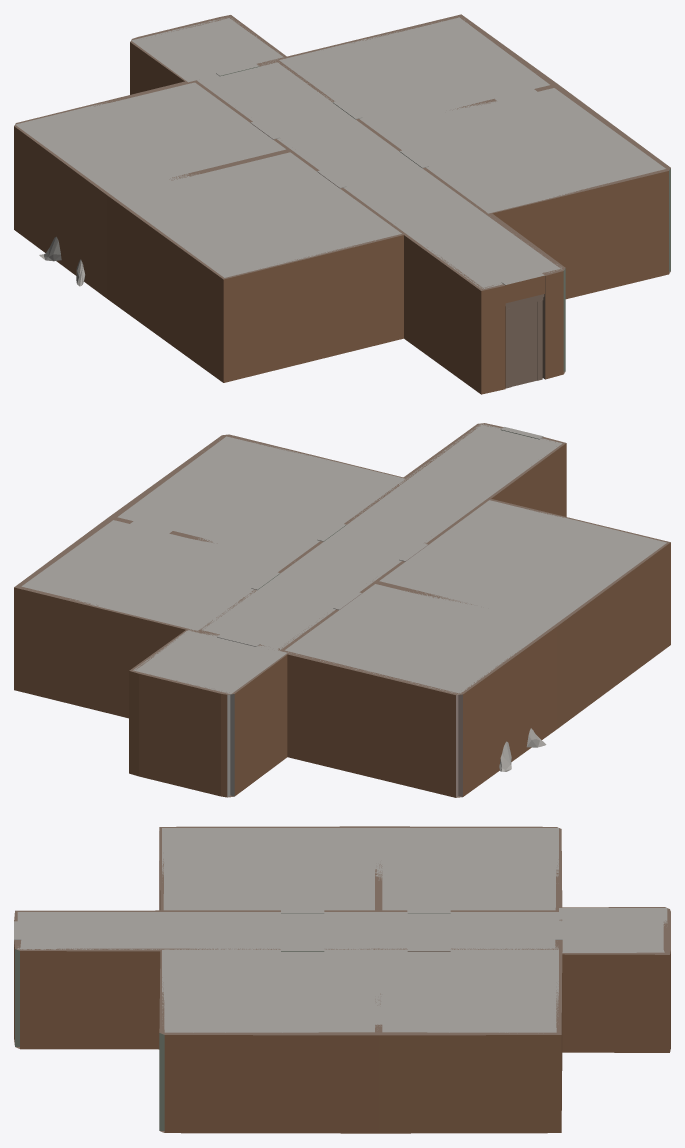
Rendered from House.fbx.
3 views of the same model, one above another, from view 1: azimuth 30°, elevation 25°; view 2: azimuth 150°, elevation 25°; view 3: azimuth 270°, elevation 25° (orthographic). The views are drawn at different scales.
Parts seen in each view (by area): view 1: Walls, Plane.011, Plane.012, Plane.010, Plane.013, Plane.008, Plane.009, Plane.007, FrontDoor, DoorFrame_Front, Lintel_Front; view 2: Walls, Plane.012, Plane.011, Plane.010, Plane.013, Plane.008, Plane.009, Plane.007; view 3: Walls, Plane.011, Plane.012, Plane.010, Plane.008, Plane.013, Plane.009, Plane.007.
Part boxes in pixels (x1,y1,x2,y2): Walls: [14, 14, 670, 394]; Plane.011: [375, 88, 665, 213]; Plane.012: [110, 152, 401, 277]; Plane.010: [279, 17, 549, 129]; Plane.013: [15, 82, 285, 194]; Plane.008: [197, 61, 487, 233]; Plane.009: [406, 214, 562, 289]; Plane.007: [131, 17, 283, 82]; FrontDoor: [511, 302, 536, 386]; DoorFrame_Front: [505, 294, 544, 388]; Lintel_Front: [501, 272, 544, 303]; Walls: [14, 423, 670, 797]; Plane.012: [379, 500, 666, 625]; Plane.011: [117, 436, 404, 561]; Plane.010: [21, 520, 291, 630]; Plane.013: [285, 584, 553, 694]; Plane.008: [199, 479, 486, 650]; Plane.009: [406, 423, 562, 498]; Plane.007: [133, 629, 286, 694]; Walls: [14, 826, 670, 1133]; Plane.011: [162, 950, 378, 1032]; Plane.012: [162, 828, 378, 910]; Plane.010: [378, 950, 558, 1032]; Plane.008: [162, 912, 558, 949]; Plane.013: [378, 828, 558, 911]; Plane.009: [17, 912, 161, 949]; Plane.007: [559, 908, 667, 952].
Bounding box in the file's own units: 13.98 × 3.04 × 18.2.
